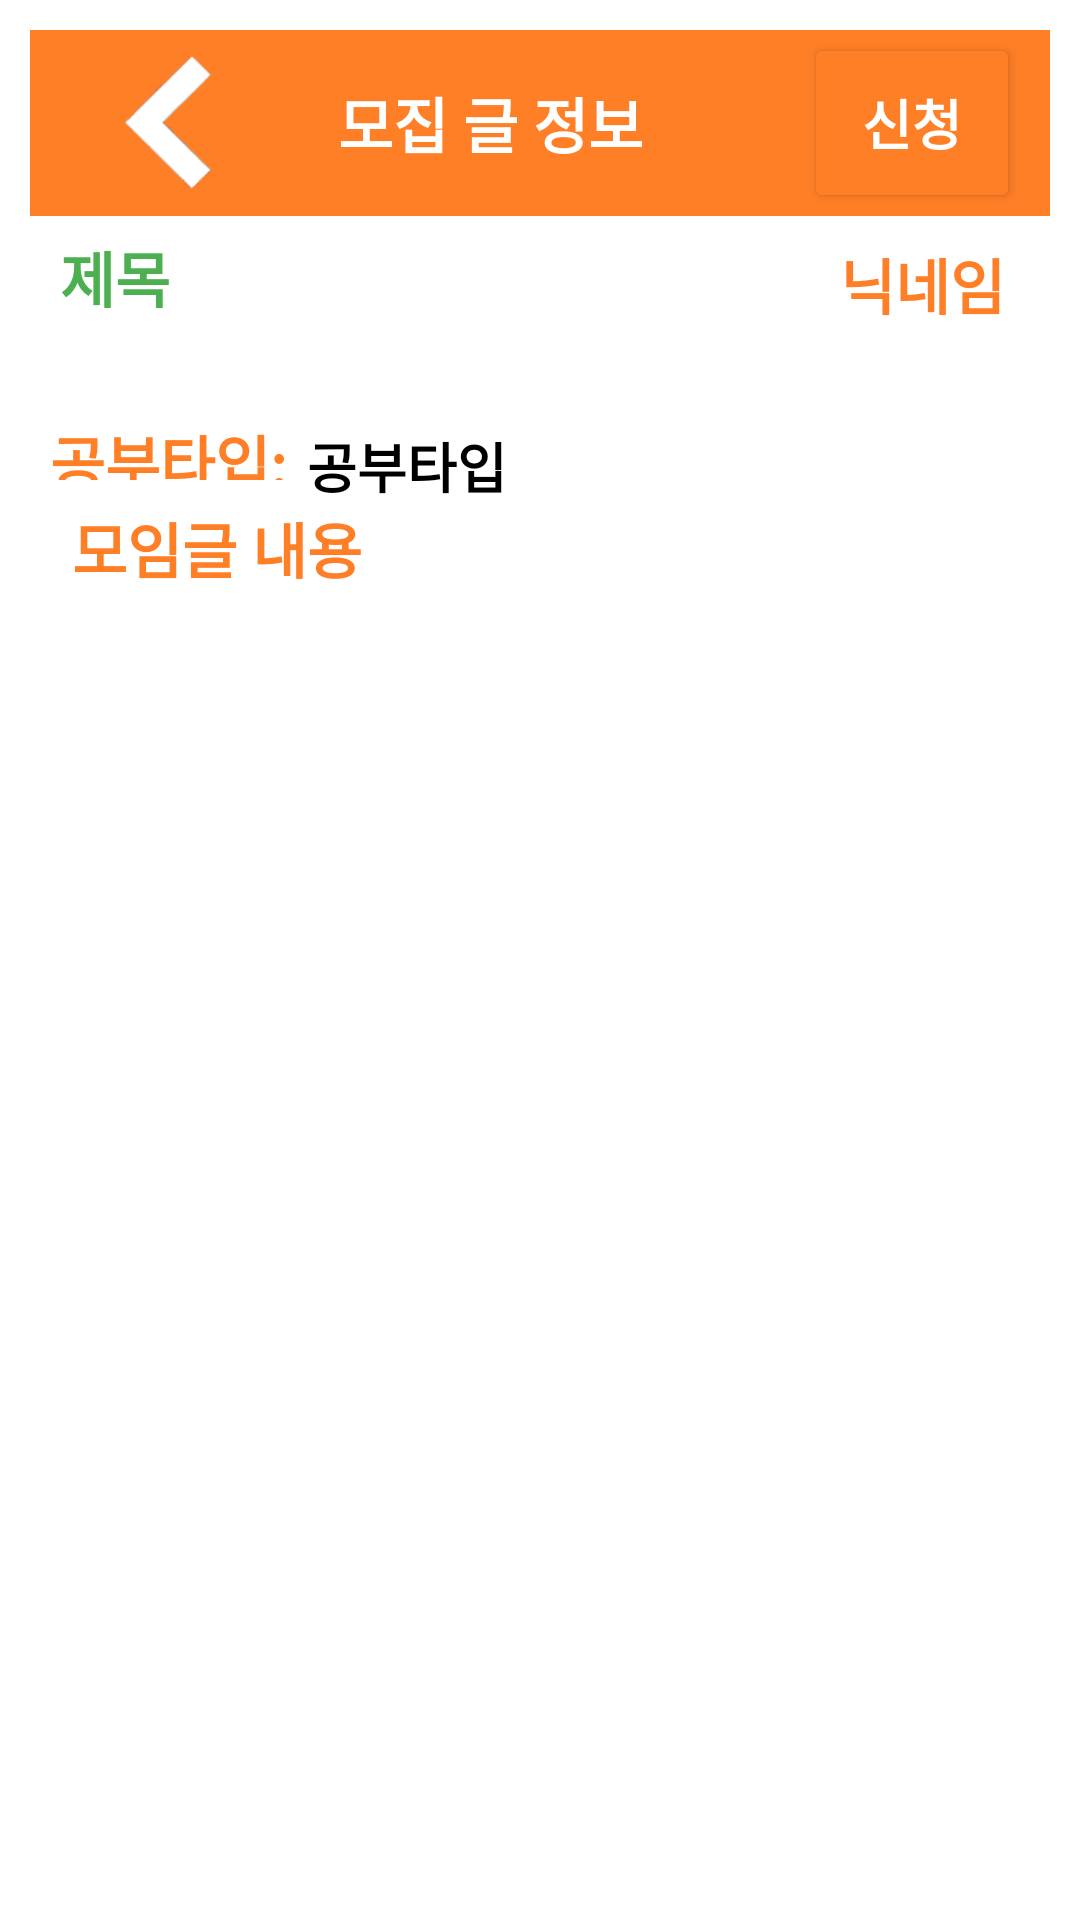

Screen size 1080×1920. Icon name, then its box in pixels as (x1, y1, x2, y2):
backicon: (30, 30, 311, 216)
